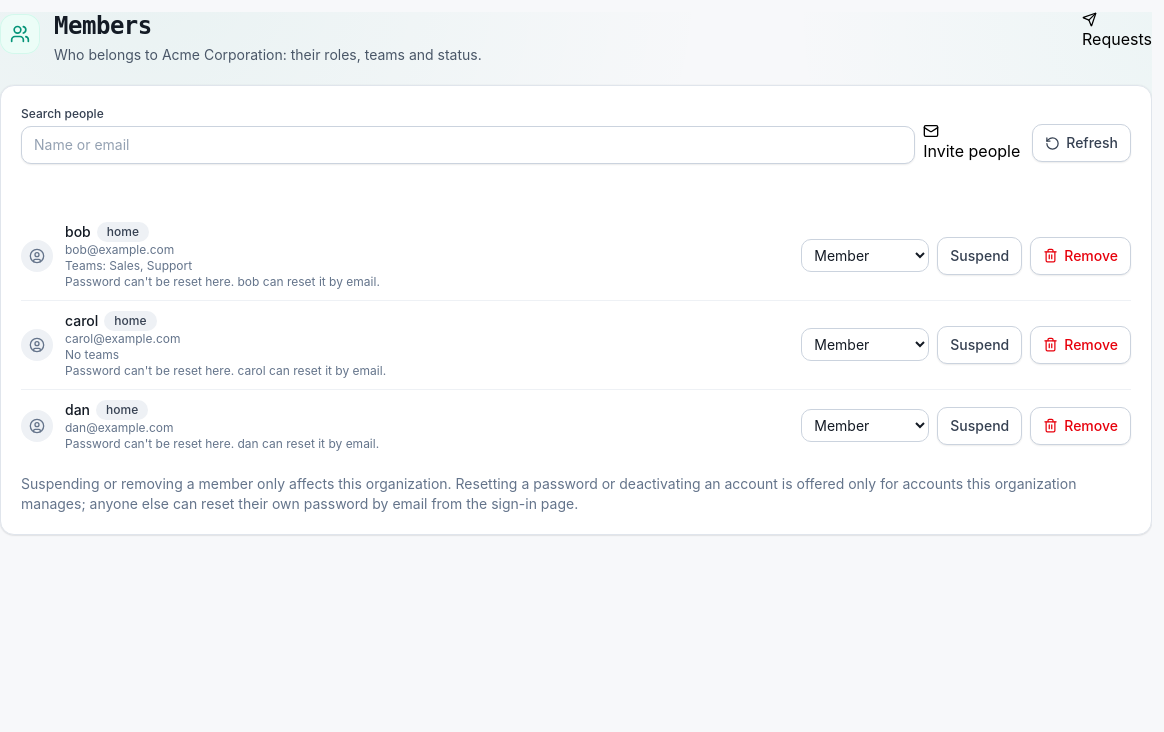
Test: OrgUsersPage › shows each member's teams, links to their person page and filters by search
This screenshot has width=1164, height=732.
Expected: the text "Teams: Sales, Support" is shown, [65,258,192,273]
Expected: the text "No teams" is shown, [65,347,119,362]
Type "carol" into the search field labelled "Search people". click: (468, 145)
box: [21,126,915,164]
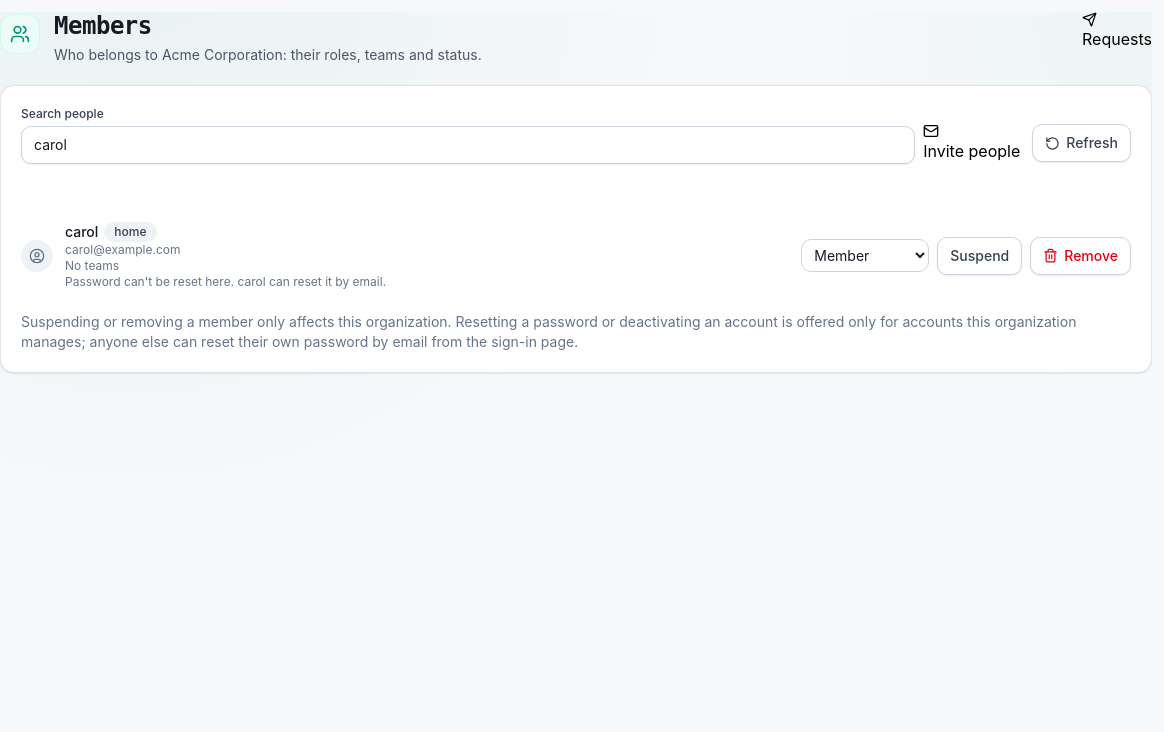
Expected: the link "carol" is shown, [65,222,98,242]
Expected: the link "bob" is gone
Replace the text in the search field labelled "Search people" with "nobody". click: (468, 145)
box: [21,126,915,164]
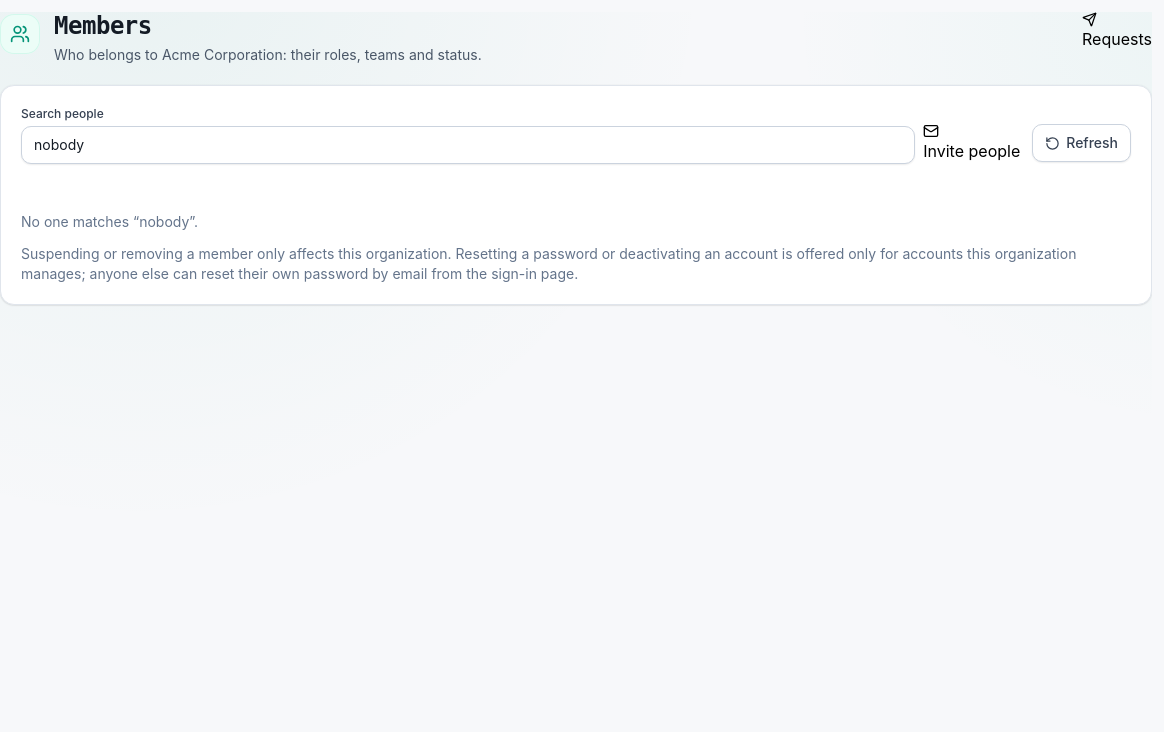
Expected: the text "No one matches “nobody”." is shown, [21,213,198,230]
